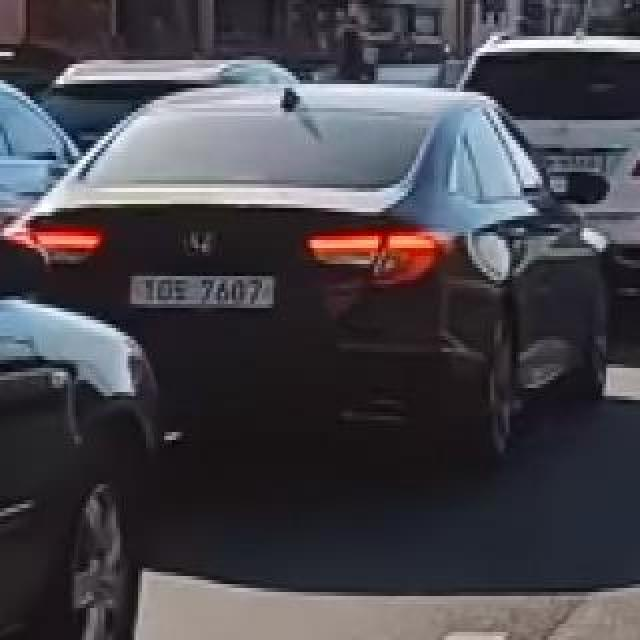car: (9, 77, 604, 476)
illegal_plate: (131, 270, 277, 317)
